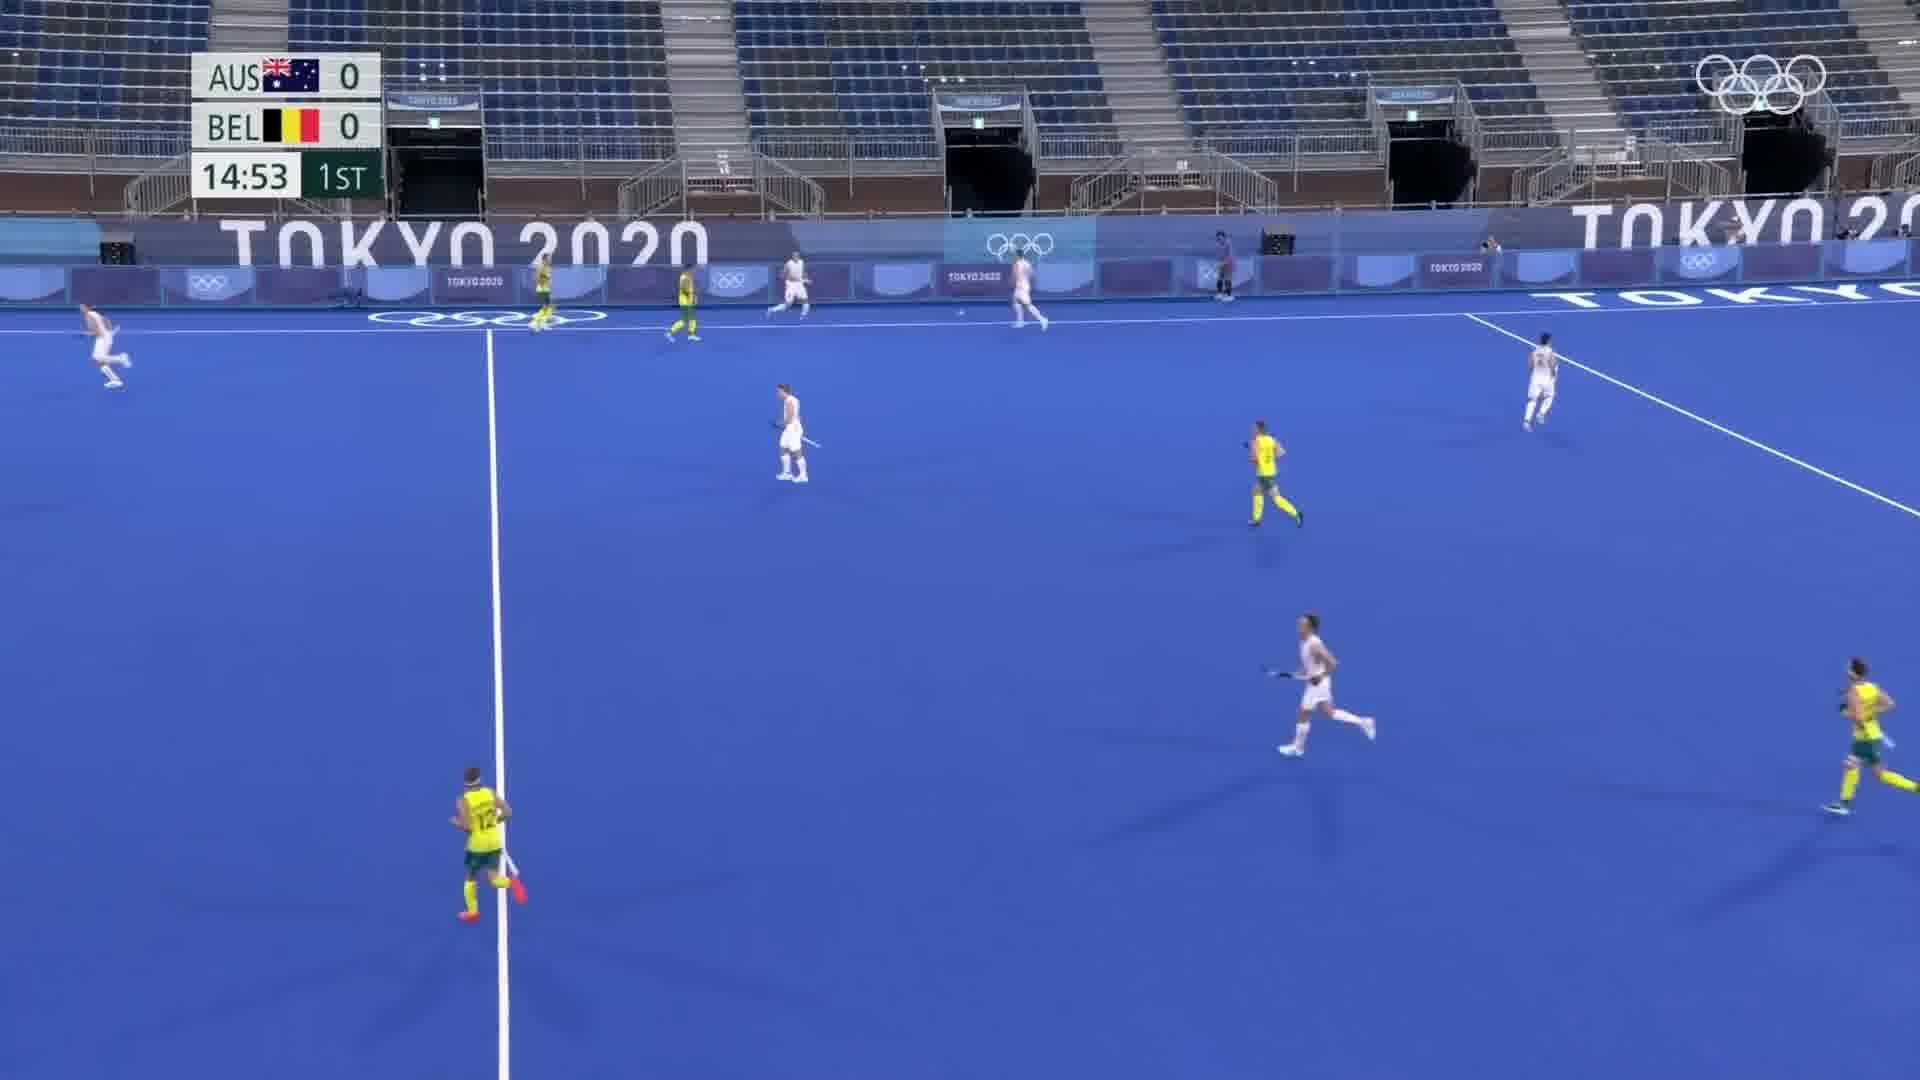ball: (948, 306, 978, 319)
